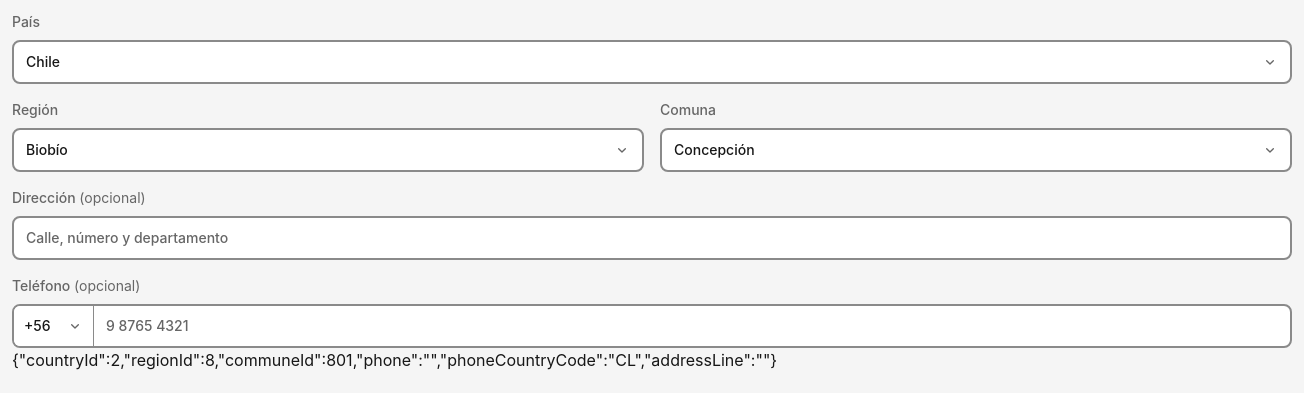
Test: UserContactFields › filters communes by region and clears commune when the region changes
Check: the button with aria-label "Comuna" reads "Concepción", box [660,128,1292,172]
Step 1. Click the button with aria-label "Región" → (47, 150), box [12,128,644,172]
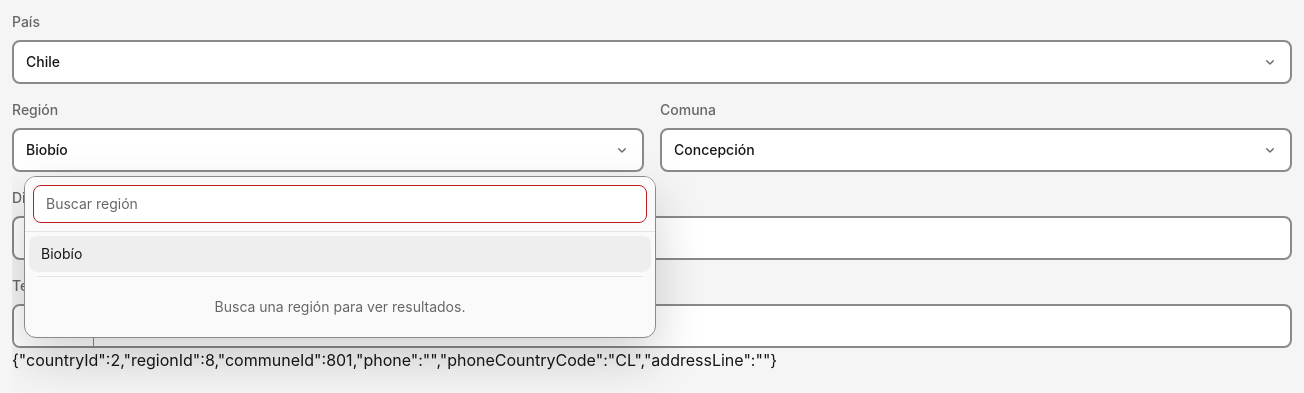
Check: the text "Busca una región para ver resultados." is shown, box [215,298,466,315]
Step 2. Type "Metropolitana" into the search field labelled "Buscar región" → (340, 204), box [33,185,647,223]
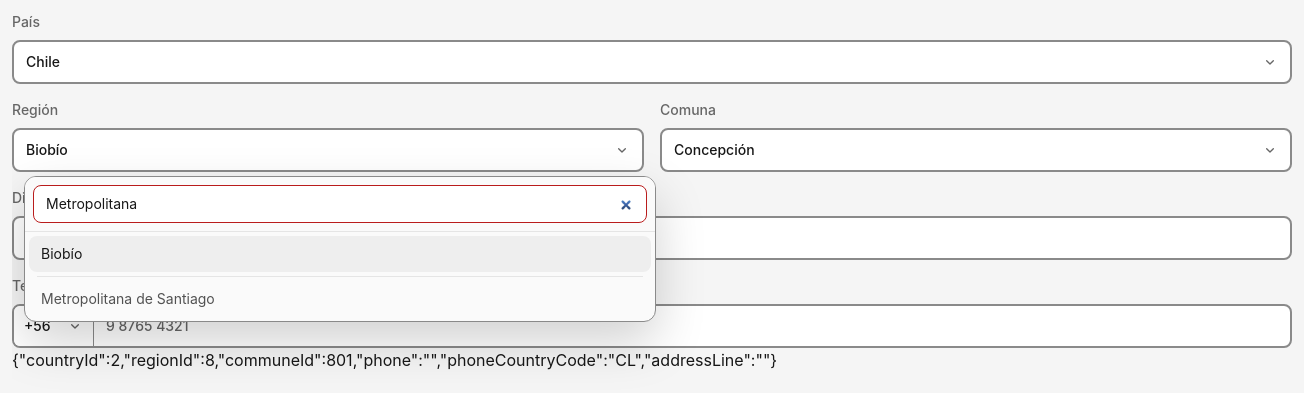
Step 3. Click the option "Metropolitana de Santiago" → (128, 298), box [29,281,651,317]
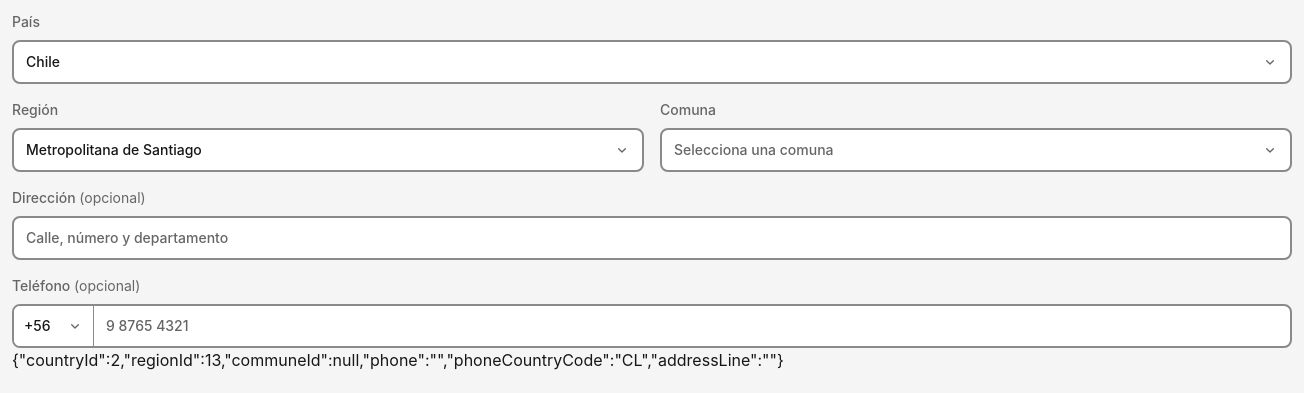
Check: the button "Selecciona una comuna" is shown
Step 4. Click the button "Selecciona una comuna" → (754, 150), box [660,128,1292,172]
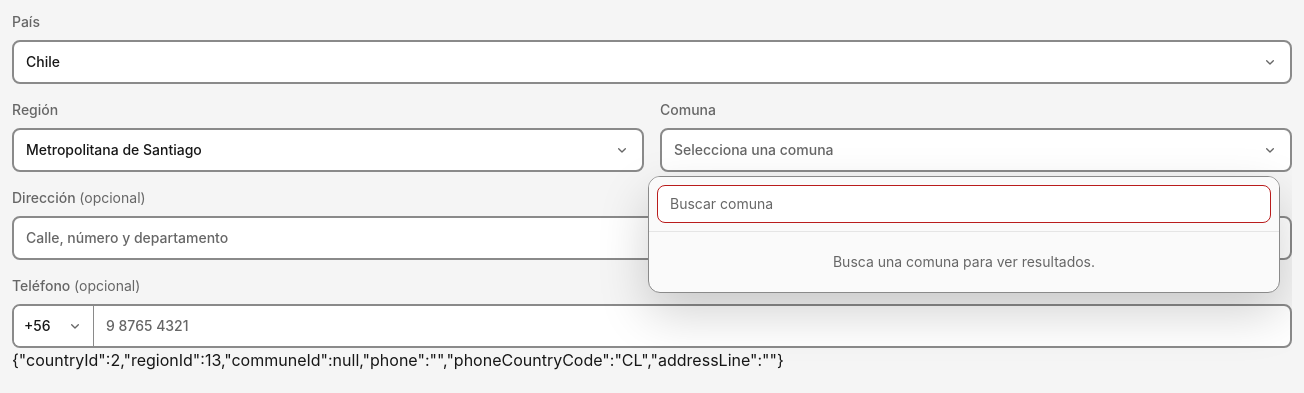
Check: the text "Busca una comuna para ver resultados." is shown, box [833,253,1095,270]
Step 5. Type "Santiago" into the search field labelled "Buscar comuna" → (964, 204), box [657,185,1271,223]
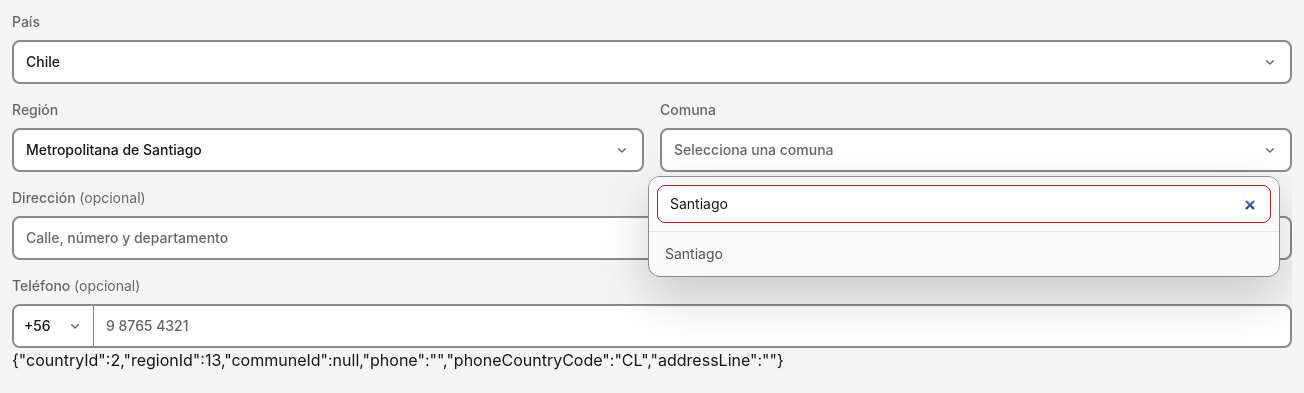
Check: the option "Santiago" is shown, box [653,236,1275,272]
